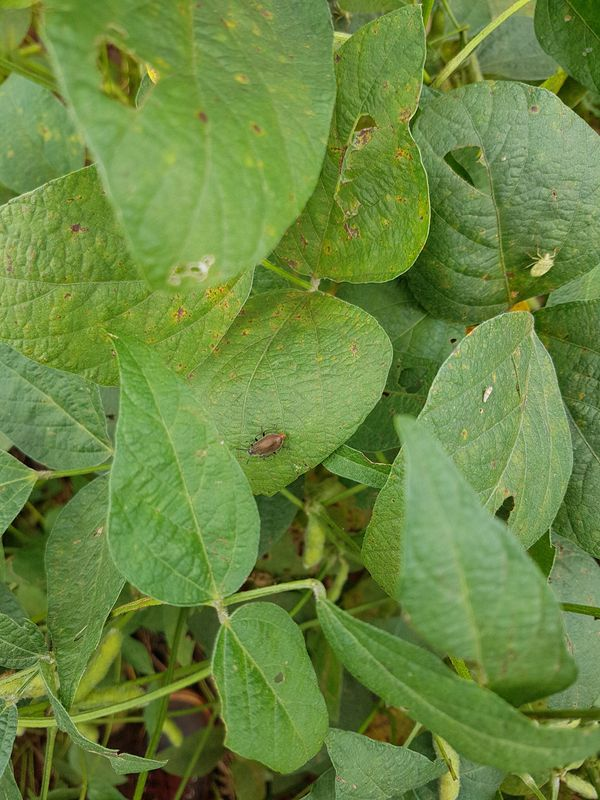Euschistus_heros_ninfa: (521, 245, 561, 280)
Lagria_villosa: (228, 422, 291, 467)
